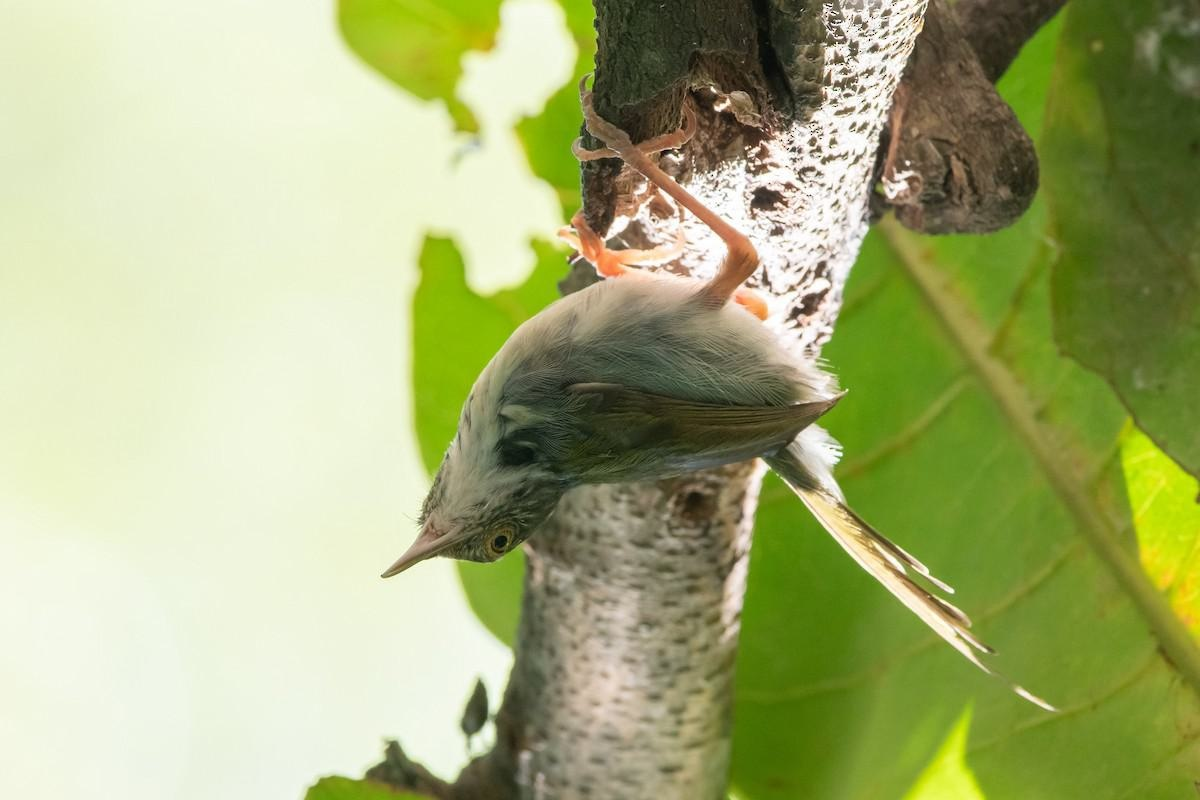tailorbird: (341, 176, 963, 660)
